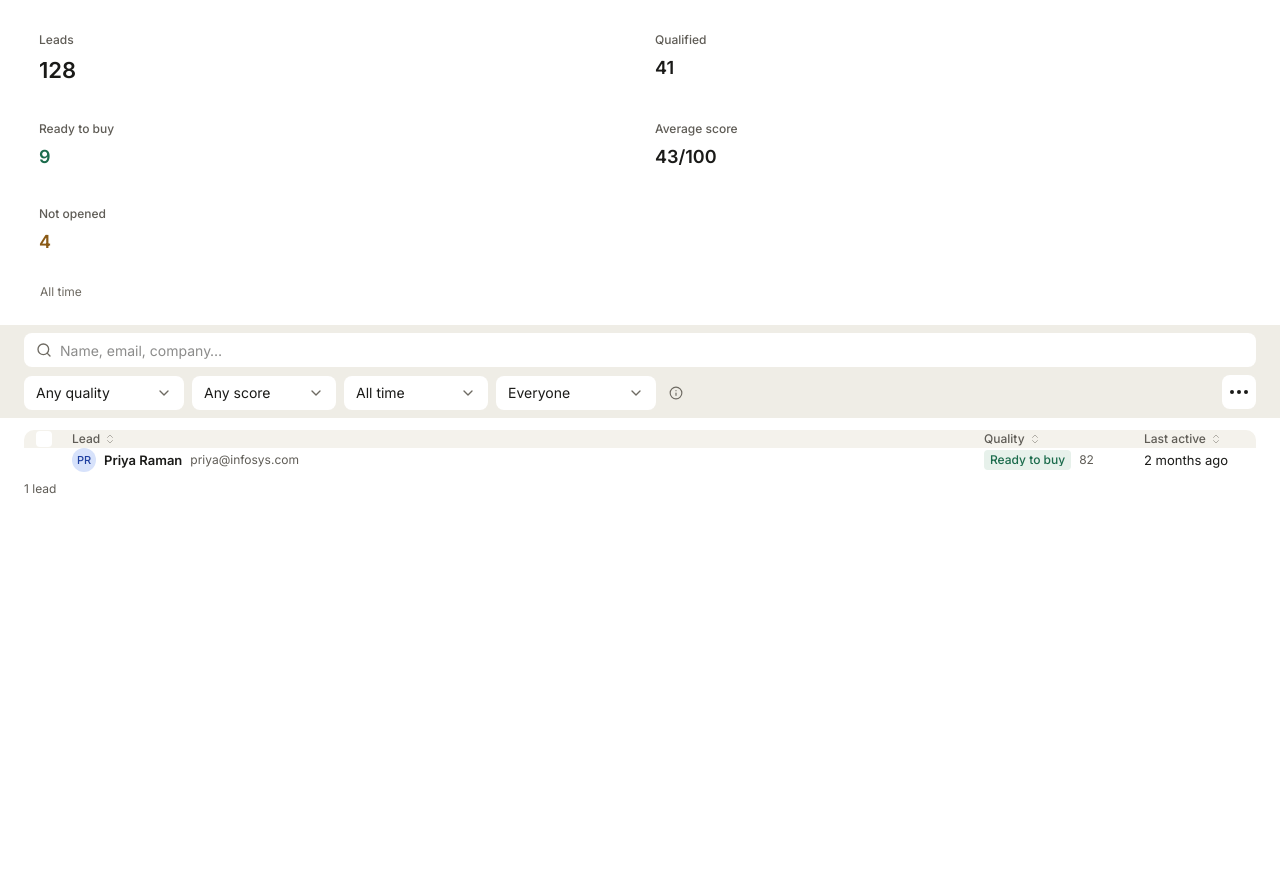
Test: LeadsPage › opens the lead when a row is clicked, and marks it read
What coordinates should you click on to do the following:
click the button "PR Priya Raman priya@infosys.com"
I would click on:
 (186, 460)
Its box is [72,448,299,472].
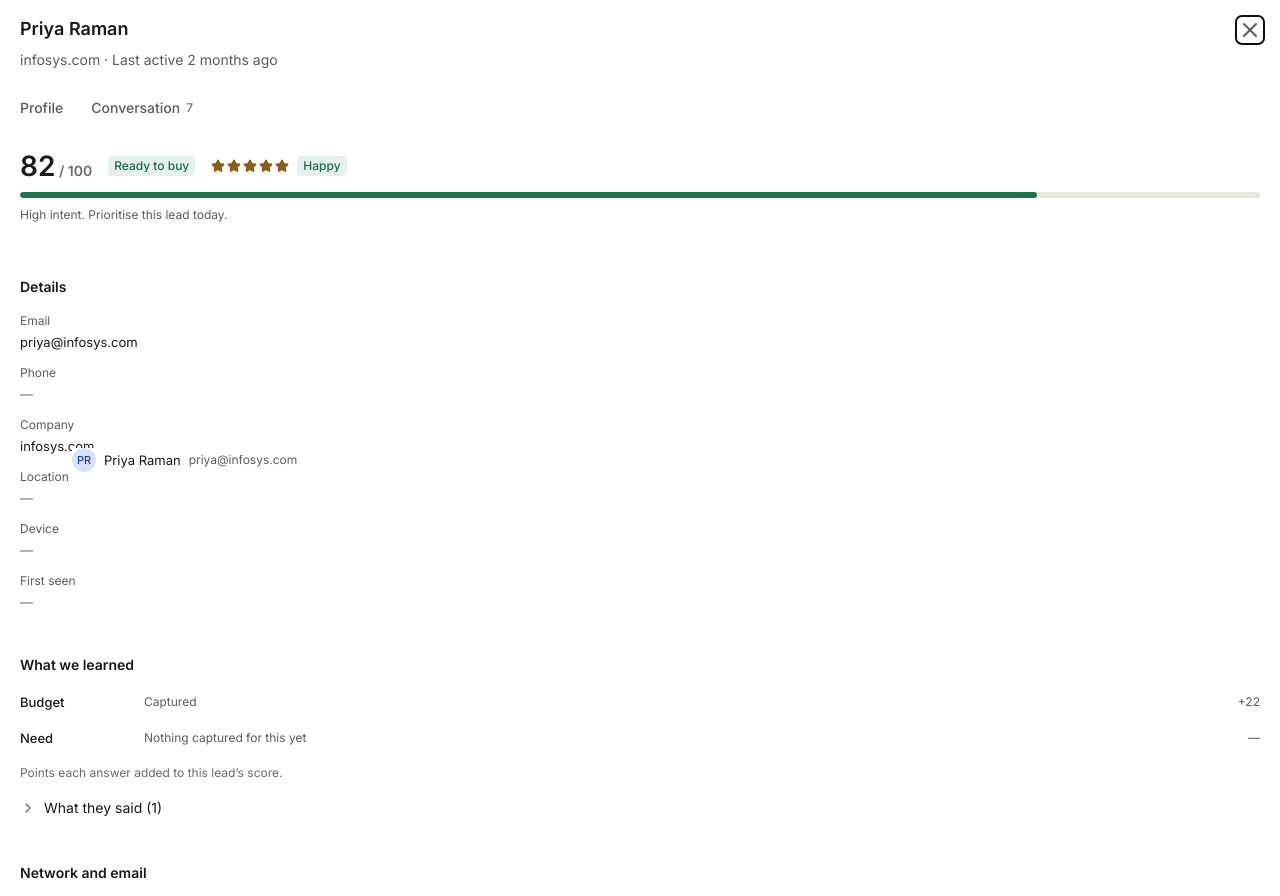
Now the text with test id "search" shows "lead=s1", box [0,524,66,544]
